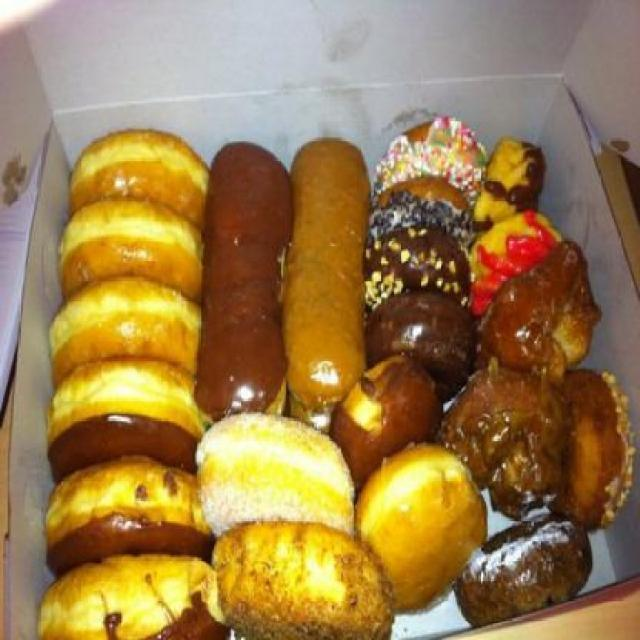Donuts: (44, 121, 638, 640)
